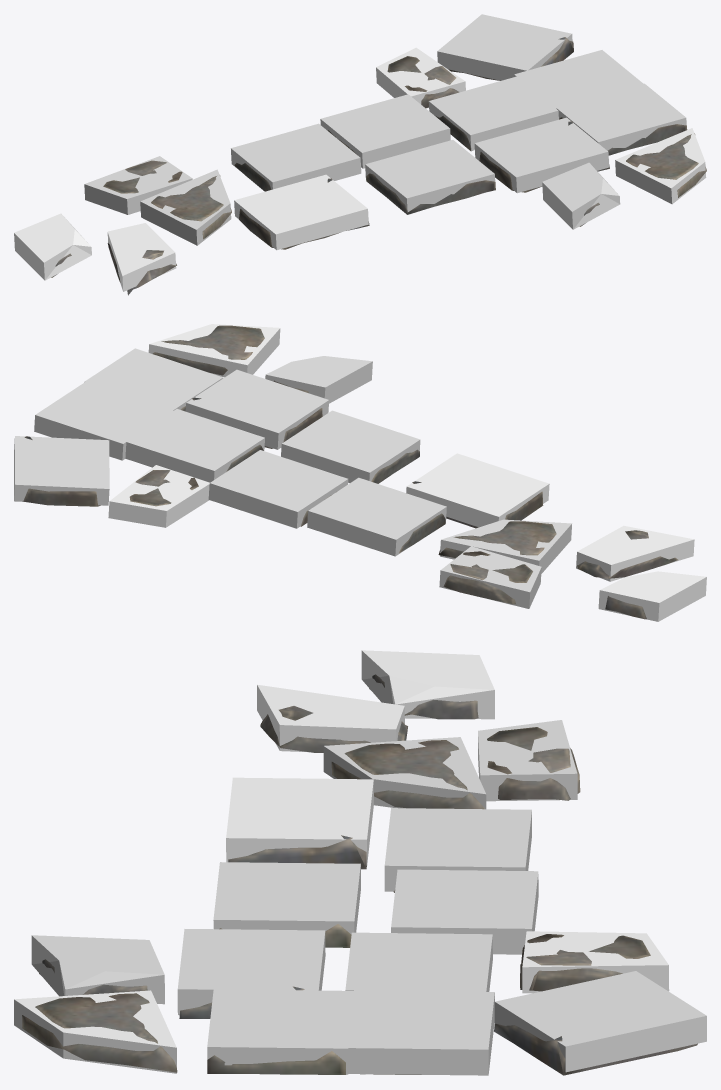
The model's file is Floor_B2.fbx.
3 renders of one model, top to bottom at view 1: azimuth 30°, elevation 25°; view 2: azimuth 150°, elevation 25°; view 3: azimuth 270°, elevation 25°, orthographic. The views are drawn at different scales.
Visible parts, largest first — view 1: Cube, Cube_5, Cube_4, Cube_2, Cube_3, Cube_8, Cube_1, Cube_6, Cube_7, Rock_A25_PZ_1, Rock_A25_PZ, Rock_A23_PZ (+14 smaller); view 2: Cube_2, Cube_3, Cube_8, Cube, Cube_4, Cube_1, Cube_7, Cube_5, Cube_6, Rock_A25_PZ, Rock_A24_PZ, Rock_A23_PZ (+14 smaller); view 3: Cube_5, Cube_7, Cube, Cube_6, Cube_2, Cube_1, Cube_4, Cube_3, Cube_8, Rock_A25_PZ, Rock_A25_PZ_1, Rock_A23_PZ (+13 smaller).
Boxes of the visible parts, x1=… form: Cube: x1=234, y1=174, x2=368, y2=250; Cube_5: x1=437, y1=14, x2=572, y2=80; Cube_4: x1=474, y1=117, x2=609, y2=193; Cube_2: x1=320, y1=94, x2=450, y2=168; Cube_3: x1=231, y1=123, x2=361, y2=189; Cube_8: x1=428, y1=76, x2=558, y2=150; Cube_1: x1=365, y1=140, x2=495, y2=212; Cube_6: x1=556, y1=83, x2=686, y2=150; Cube_7: x1=514, y1=50, x2=643, y2=108; Rock_A25_PZ_1: x1=542, y1=162, x2=620, y2=229; Rock_A25_PZ: x1=14, y1=213, x2=91, y2=280; Rock_A23_PZ: x1=107, y1=223, x2=176, y2=291; Cube_2: x1=208, y1=450, x2=348, y2=528; Cube_3: x1=307, y1=477, x2=446, y2=556; Cube_8: x1=125, y1=409, x2=264, y2=482; Cube: x1=406, y1=453, x2=549, y2=527; Cube_4: x1=185, y1=369, x2=329, y2=449; Cube_1: x1=281, y1=410, x2=420, y2=482; Cube_7: x1=34, y1=382, x2=173, y2=460; Cube_5: x1=14, y1=436, x2=109, y2=505; Cube_6: x1=84, y1=348, x2=223, y2=410; Rock_A25_PZ: x1=598, y1=571, x2=706, y2=621; Rock_A24_PZ: x1=108, y1=465, x2=209, y2=527; Rock_A23_PZ: x1=576, y1=525, x2=694, y2=581; Cube_5: x1=494, y1=971, x2=706, y2=1072; Cube_7: x1=348, y1=990, x2=494, y2=1075; Cube: x1=226, y1=777, x2=373, y2=865; Cube_6: x1=207, y1=989, x2=354, y2=1074; Cube_2: x1=391, y1=869, x2=538, y2=954; Cube_1: x1=213, y1=862, x2=360, y2=934; Cube_4: x1=177, y1=929, x2=325, y2=1015; Cube_3: x1=384, y1=808, x2=531, y2=891; Cube_8: x1=345, y1=932, x2=492, y2=991; Rock_A25_PZ: x1=361, y1=650, x2=494, y2=719; Rock_A25_PZ_1: x1=31, y1=935, x2=164, y2=1004; Rock_A23_PZ: x1=257, y1=684, x2=404, y2=752.
Bounding box in the file's own units: 534 × 51.51 × 341.
Materials: 2 (1 with a texture image).
